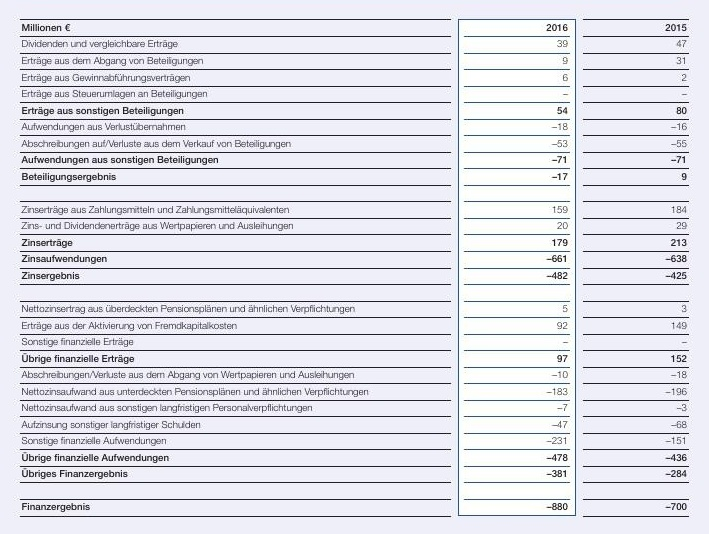table: (0, 0, 709, 534)
